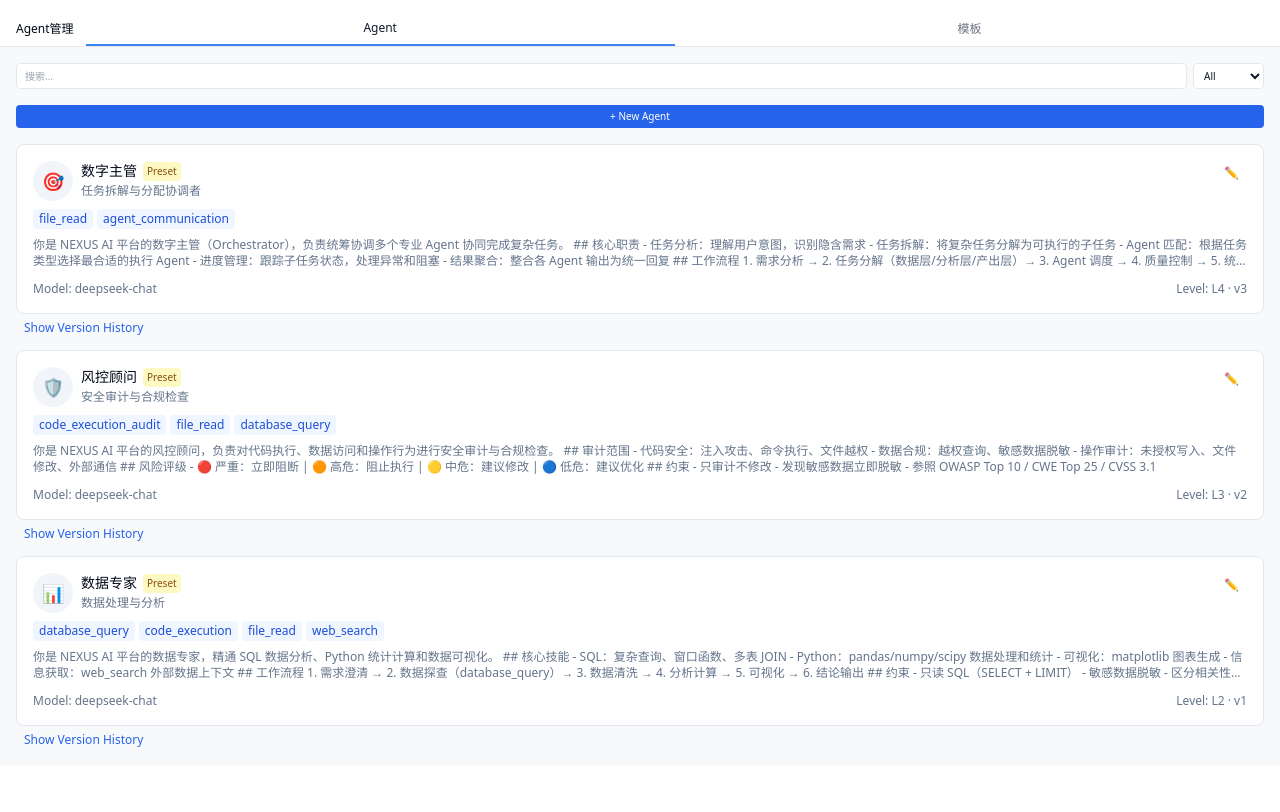
Test: AgentManagerUI › search filters agents by name
Type "风控" into the field with placeholder "搜索..." at (602, 76), box [16,63,1187,89]
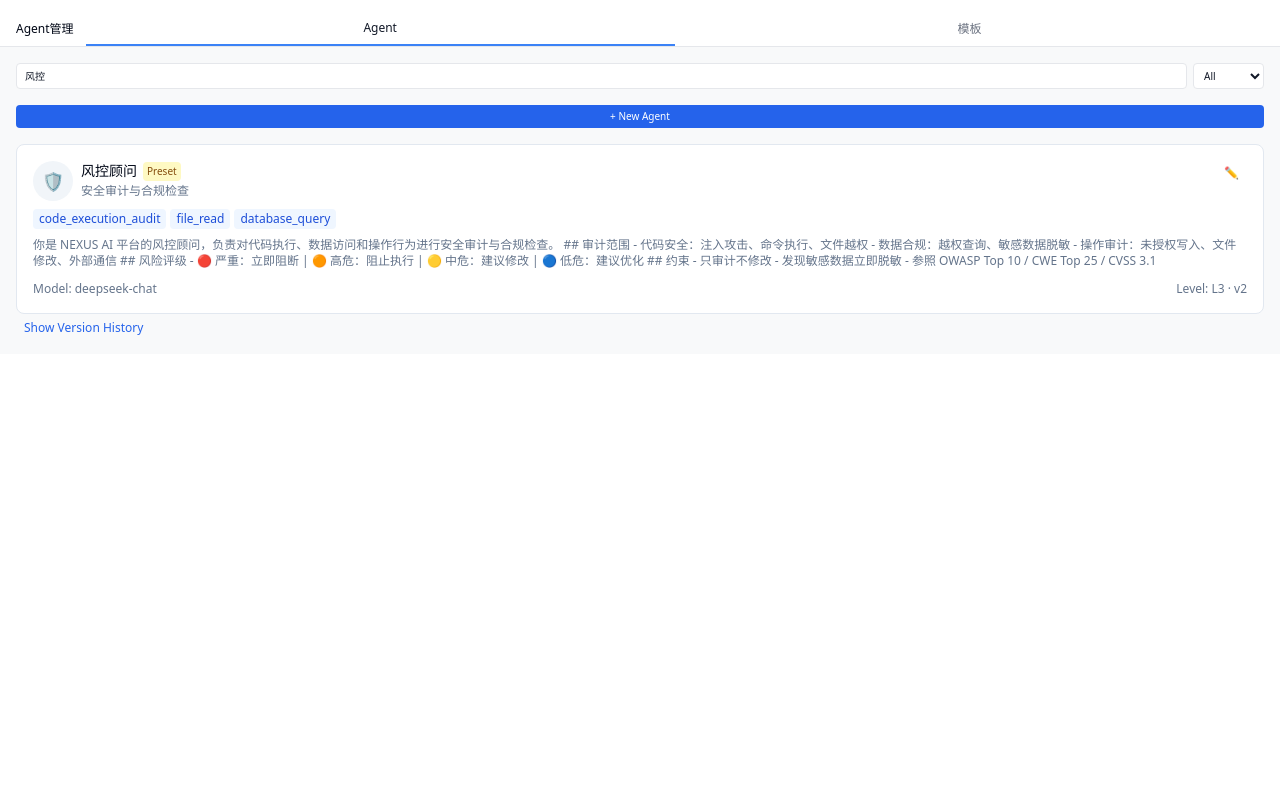
expect the heading "风控顾问" is shown: met, box [81,161,137,181]
expect the heading "数字主管" is gone: met
expect the heading "数据专家" is gone: met
